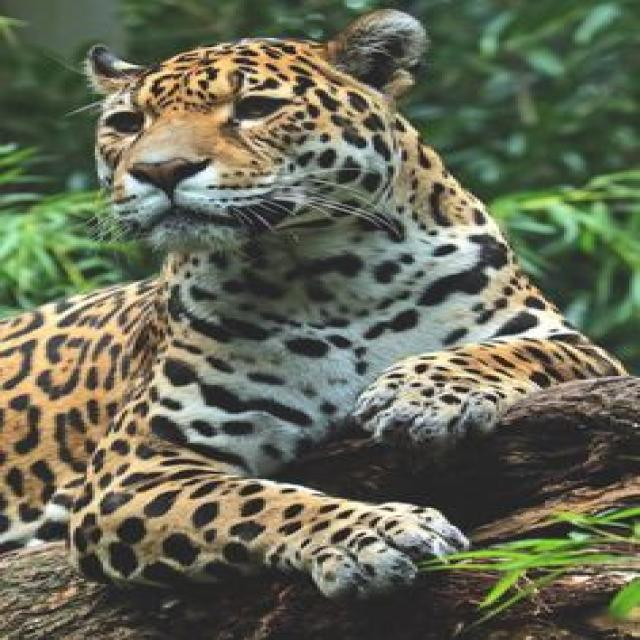Carnivorous: (0, 9, 640, 600)
